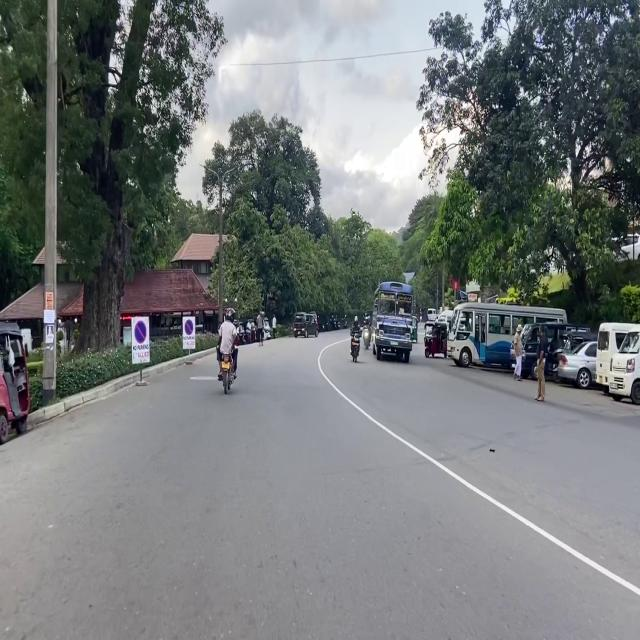bus: (448, 303, 567, 367), (372, 281, 414, 363)
car: (558, 341, 597, 389), (293, 312, 319, 338), (428, 308, 436, 321)
motorcycle: (221, 354, 233, 394), (351, 334, 360, 362), (363, 328, 369, 349), (335, 315, 340, 329), (343, 315, 348, 329), (326, 318, 330, 331)
person: (217, 308, 239, 380), (536, 325, 548, 402), (513, 324, 522, 380), (351, 316, 362, 338), (257, 312, 263, 346), (250, 321, 255, 343), (364, 314, 371, 329), (272, 316, 276, 338), (419, 308, 424, 323)
three wheeler: (0, 322, 30, 443), (553, 330, 597, 383), (424, 312, 452, 357), (234, 321, 246, 344), (242, 319, 252, 344), (263, 317, 271, 340), (411, 316, 417, 343)
van: (511, 322, 589, 380), (596, 323, 637, 393), (610, 327, 640, 405), (438, 309, 453, 325)
